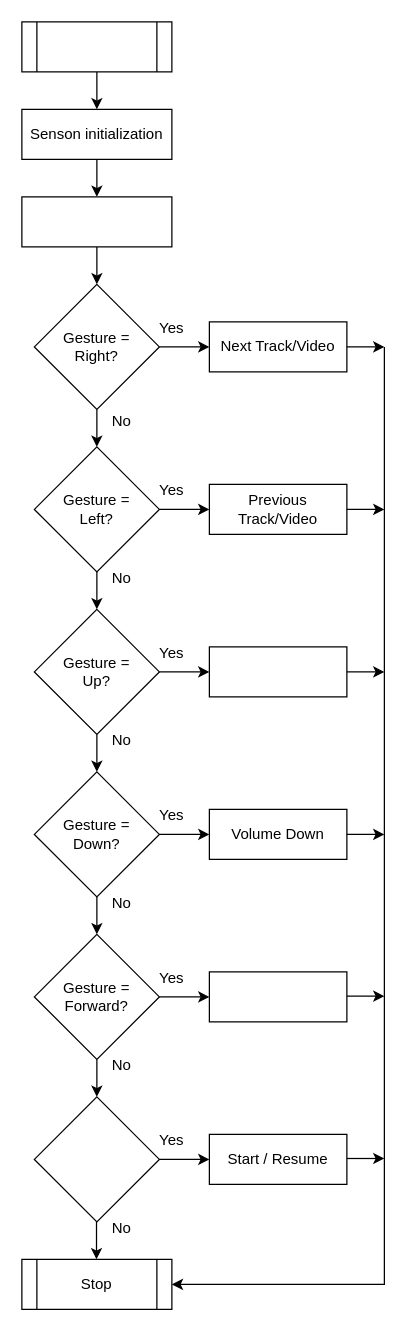
Some shapes in this 416 by 1331 pixel diagram are drawn without their labels. Each missing label, with the centre of its shape:
Capture Palm Gesture: pixel 96 221
Gesture = Backward?: pixel 96 1159
Start: pixel 96 46
Stop / Pause: pixel 277 996
Volume Up: pixel 277 671
